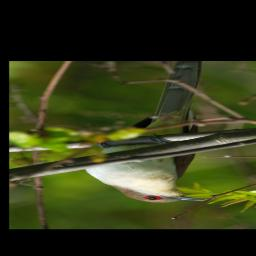Cuckoo: (79, 61, 212, 204)
